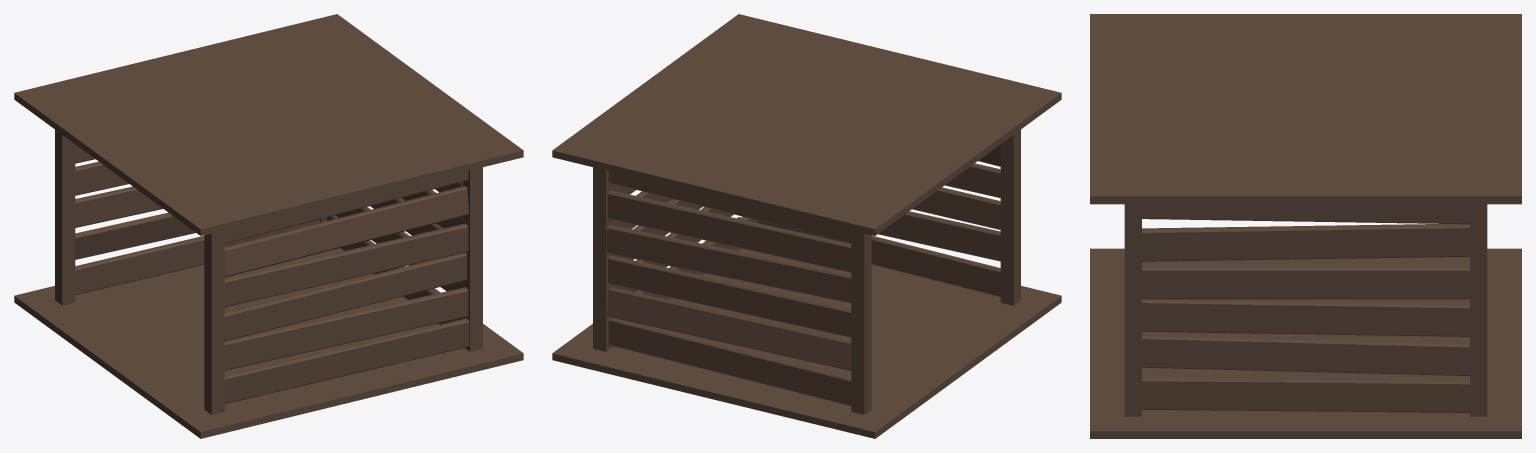
The model's file is PlankShack.fbx.
The picture shows the model from 3 angles, left to right: view 1: azimuth 30°, elevation 25°; view 2: azimuth 150°, elevation 25°; view 3: azimuth 270°, elevation 25°; orthographic projection. The views are drawn at different scales.
Parts seen in each view (by area): view 1: House, Wall, Wall.001, Wall.002; view 2: House, Wall.001, Wall, Wall.002; view 3: House, Wall.002.
Boxes of the visible parts, box(x1,y1,x2,y2) form: House: box(14, 14, 523, 438); Wall: box(224, 171, 469, 403); Wall.001: box(75, 144, 319, 294); Wall.002: box(327, 182, 462, 324); House: box(552, 14, 1061, 438); Wall.001: box(606, 171, 851, 405); Wall: box(758, 144, 1000, 296); Wall.002: box(613, 184, 754, 299); House: box(1090, 14, 1521, 438); Wall.002: box(1142, 204, 1469, 412).
Bounding box in the file's own units: 10 × 6.2 × 10.
